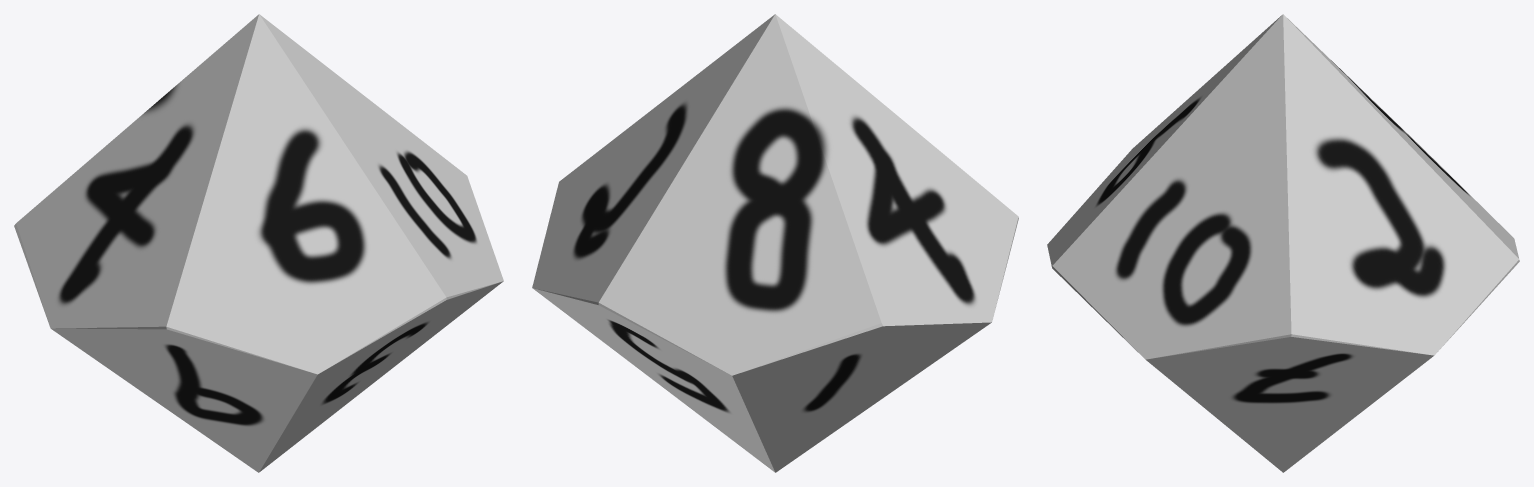
The picture shows the model from 3 angles, left to right: view 1: azimuth 30°, elevation 25°; view 2: azimuth 150°, elevation 25°; view 3: azimuth 270°, elevation 25°; orthographic projection.
Visible parts, largest first — view 1: Cone; view 2: Cone; view 3: Cone.
Boxes of the visible parts, <box> form: Cone: <box>14,14,503,472</box>; Cone: <box>532,14,1018,472</box>; Cone: <box>1047,14,1519,472</box>.
Size of the model in its own units: 45.72 by 47.15 by 44.
1 material, 1 textured.
